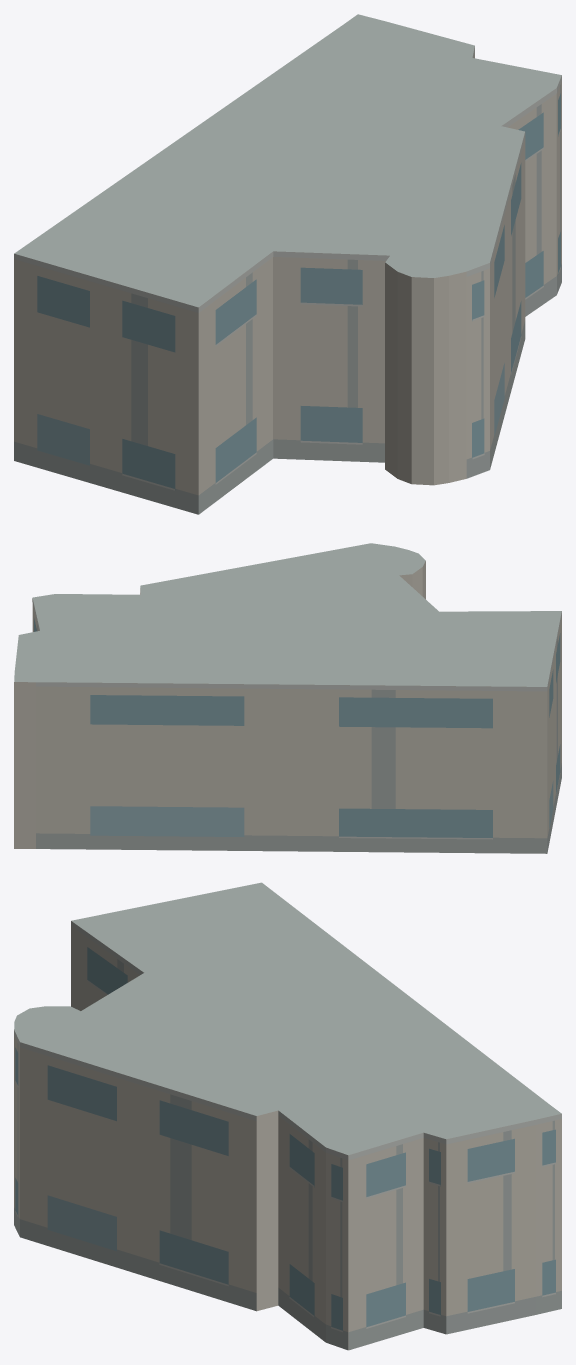
The model's file is survey-upis-32791608.glb.
3 views of the same model, one above another, from view 1: azimuth 30°, elevation 25°; view 2: azimuth 150°, elevation 25°; view 3: azimuth 270°, elevation 25° (orthographic). The views are drawn at different scales.
Visible parts, largest first — view 1: survey-upis-32791608.tmp; view 2: survey-upis-32791608.tmp; view 3: survey-upis-32791608.tmp.
Part boxes in pixels (box(x1,y1,x2,y2)): survey-upis-32791608.tmp: box(14, 14, 561, 514); survey-upis-32791608.tmp: box(14, 543, 561, 853); survey-upis-32791608.tmp: box(14, 882, 561, 1350).
Size of the model in its own units: 27.44 by 9.15 by 23.29.
